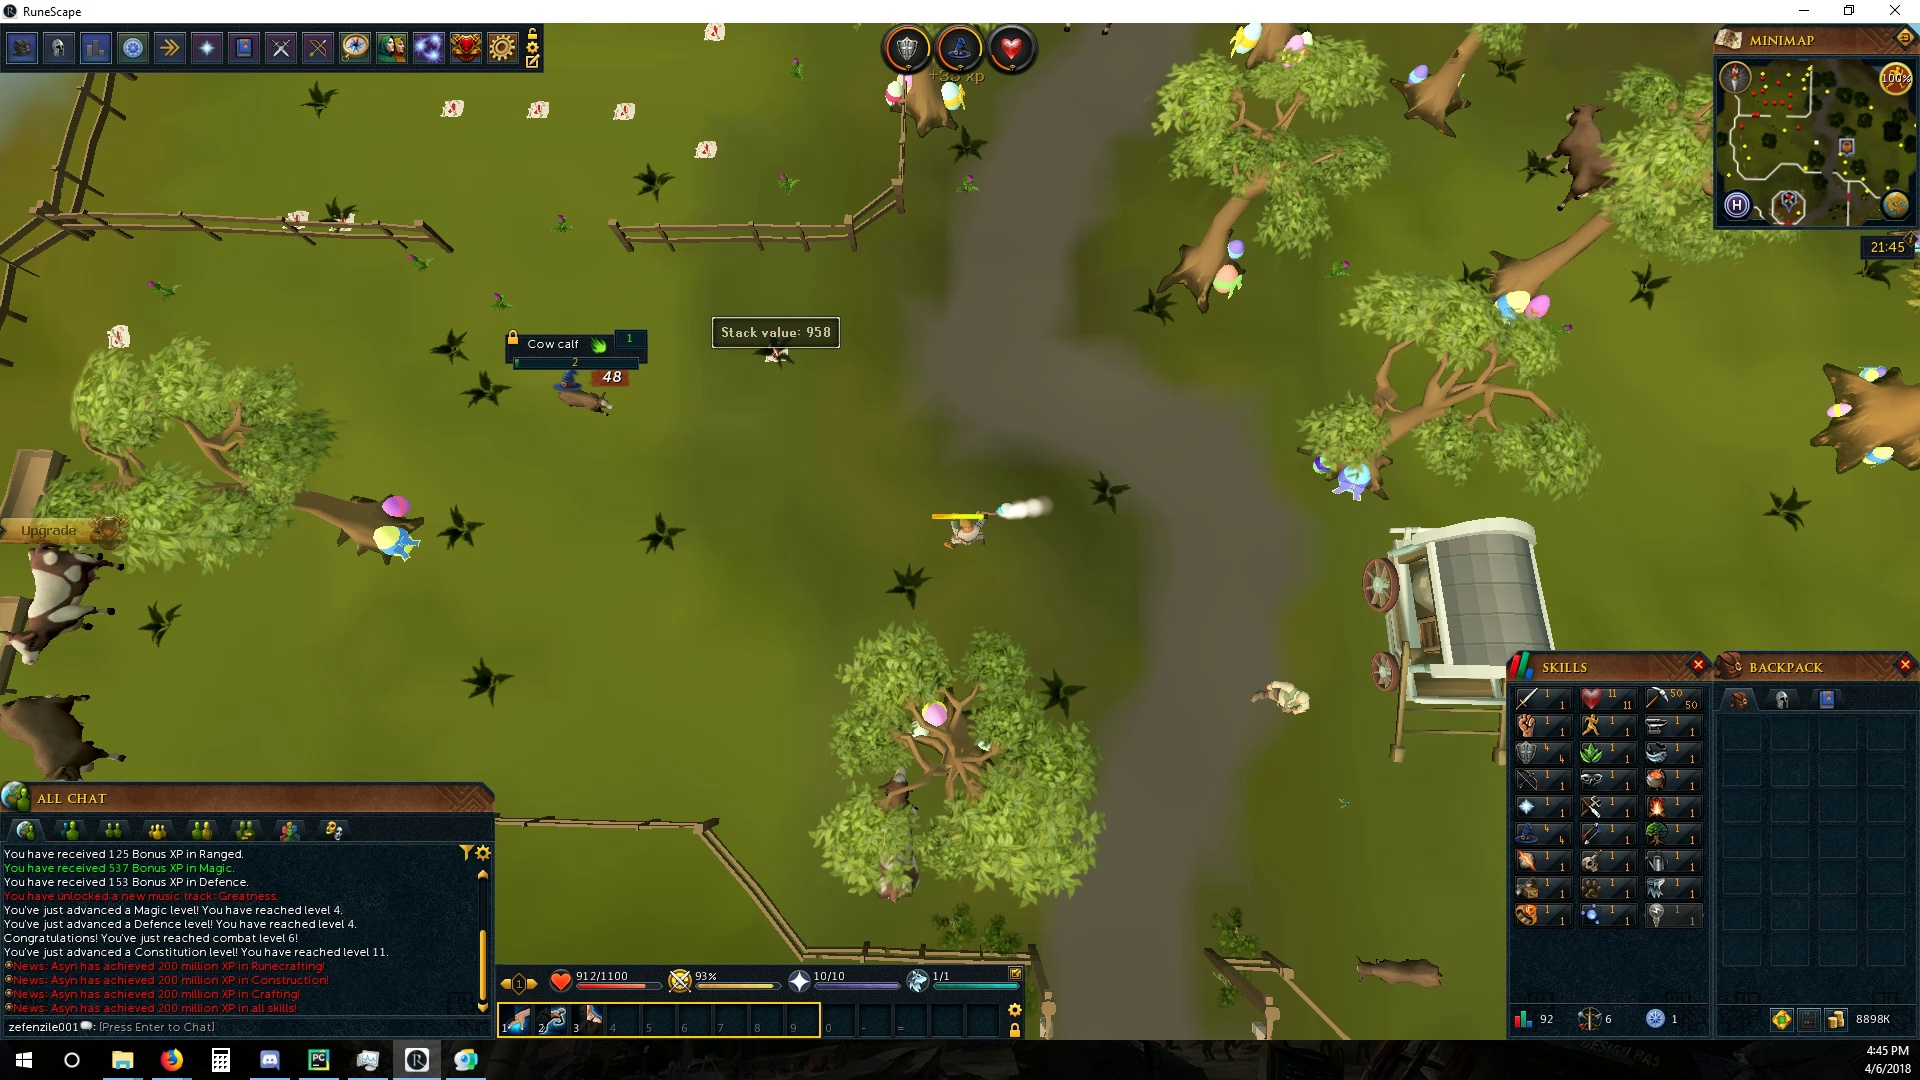calf: (1352, 949, 1445, 992), (558, 382, 617, 417)
cow: (3, 538, 127, 669), (1, 694, 129, 783), (866, 765, 928, 906), (1542, 102, 1618, 212)
cow_drop: (103, 320, 132, 352), (280, 206, 313, 228), (700, 22, 729, 47), (434, 98, 468, 119), (524, 98, 553, 121), (608, 102, 637, 123), (691, 138, 717, 161)
